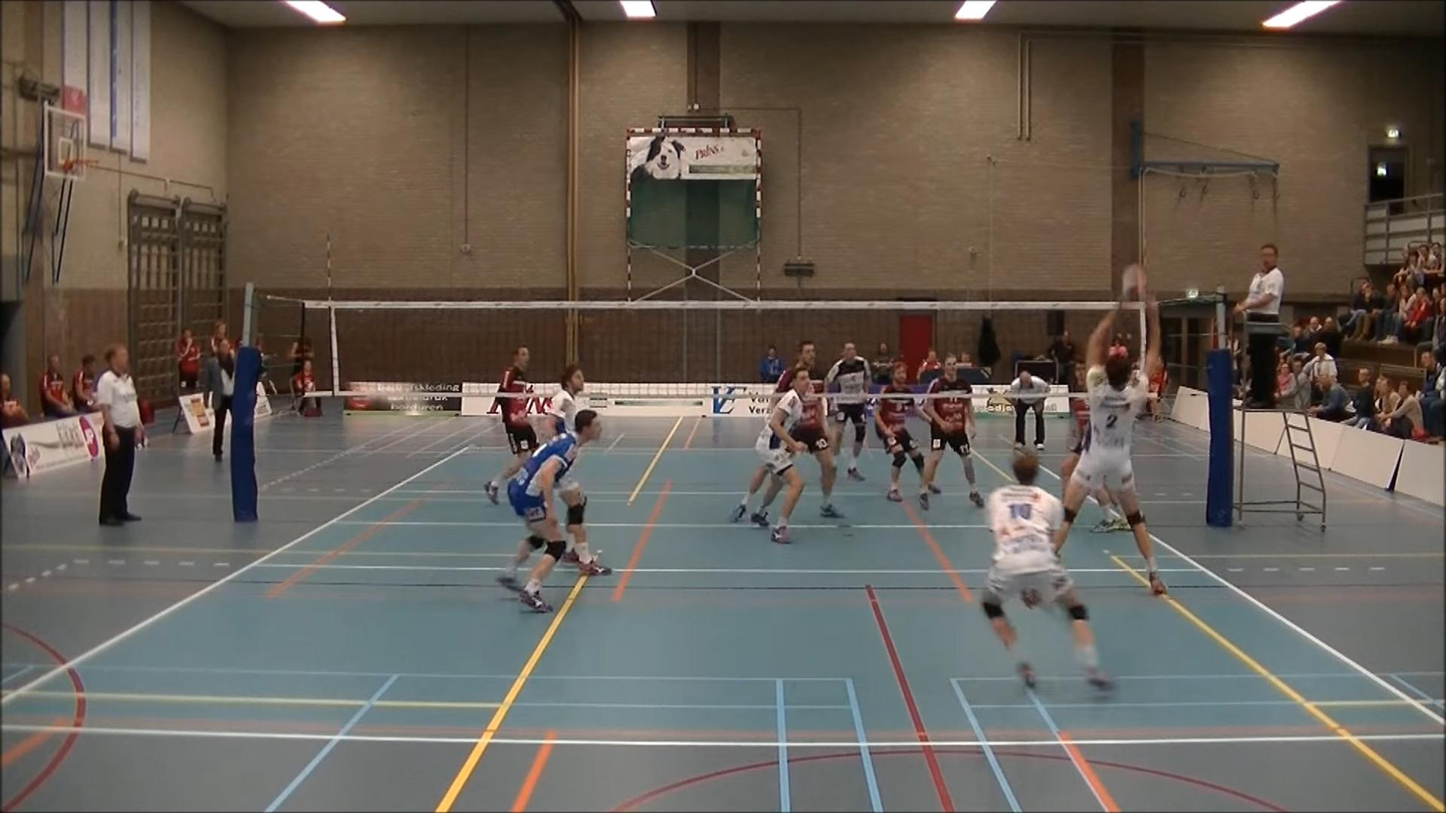ricezione: (1067, 280, 1165, 594)
